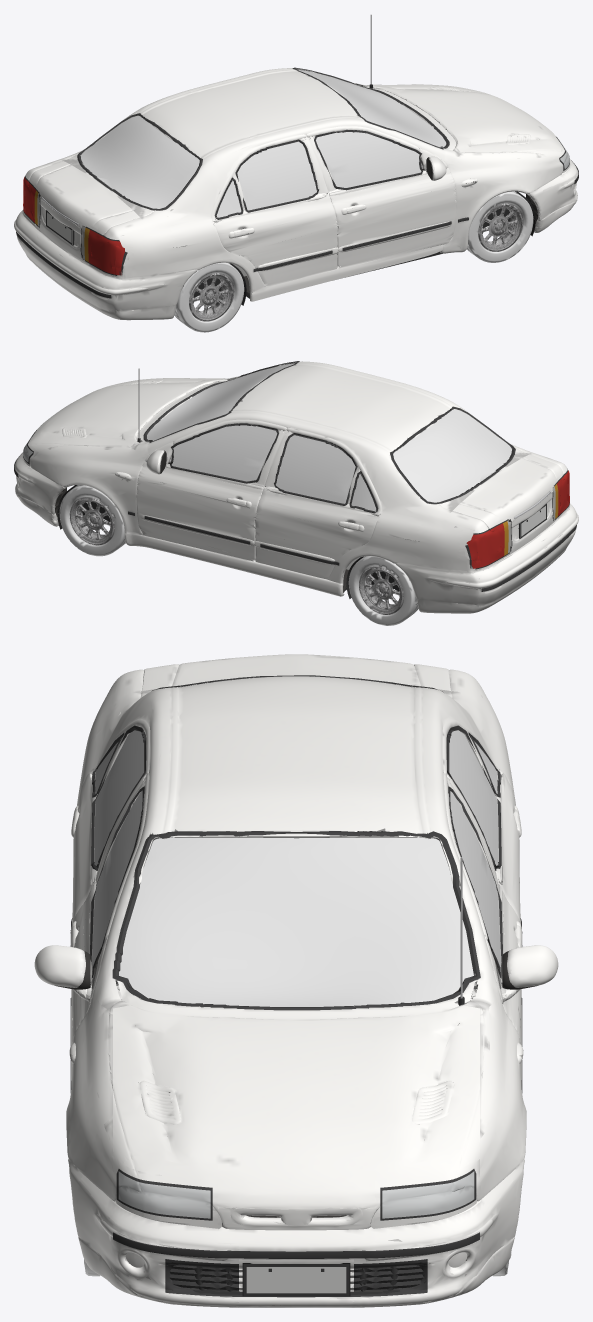
The model's file is barao.glb.
3 renders of one model, top to bottom at view 1: azimuth 30°, elevation 25°; view 2: azimuth 150°, elevation 25°; view 3: azimuth 270°, elevation 25°, orthographic. The views are drawn at different scales.
Parts seen in each view (by area): view 1: body, door_fr, door_rr, hood, glass_rear, bumper_rear, trunk, fender_front_right, glass_door_rr, glass_door_fr, fender_rear_right, glass_windshield (+9 smaller); view 2: body, door_fl, door_rl, hood, glass_rear, bumper_rear, trunk, fender_front_left, glass_door_rl, glass_door_fl, fender_rear_left, glass_windshield (+9 smaller); view 3: body, hood, glass_windshield, bumper_front, trunk, fender_front_left, fender_front_right, grille, headlight_left, headlight_right, plate_front, glass_door_rl (+11 smaller).
Part boxes in pixels (left/top/right/bottom): body: left=23, top=14, right=560, bottom=318; door_fr: left=314, top=129, right=455, bottom=267; door_rr: left=214, top=139, right=337, bottom=288; hood: left=373, top=84, right=561, bottom=164; glass_rear: left=81, top=116, right=199, bottom=208; bumper_rear: left=14, top=210, right=176, bottom=320; trunk: left=27, top=159, right=146, bottom=237; fender_front_right: left=449, top=151, right=543, bottom=239; glass_door_rr: left=216, top=141, right=317, bottom=217; glass_door_fr: left=316, top=132, right=421, bottom=187; fender_rear_right: left=171, top=211, right=249, bottom=292; glass_windshield: left=298, top=70, right=446, bottom=147; body: left=32, top=361, right=569, bottom=611; door_fl: left=137, top=423, right=278, bottom=561; door_rl: left=255, top=433, right=378, bottom=581; hood: left=31, top=378, right=223, bottom=457; glass_rear: left=393, top=409, right=511, bottom=502; bumper_rear: left=416, top=503, right=578, bottom=613; trunk: left=446, top=453, right=565, bottom=530; fender_front_left: left=49, top=445, right=143, bottom=532; glass_door_rl: left=276, top=435, right=376, bottom=510; glass_door_fl: left=171, top=425, right=277, bottom=481; fender_rear_left: left=343, top=505, right=421, bottom=586; glass_windshield: left=147, top=363, right=294, bottom=440; body: left=54, top=665, right=538, bottom=1292; hood: left=113, top=1003, right=479, bottom=1209; glass_windshield: left=119, top=837, right=473, bottom=1006; bumper_front: left=76, top=1173, right=516, bottom=1307; trunk: left=115, top=654, right=477, bottom=699; fender_front_left: left=480, top=995, right=526, bottom=1261; fender_front_right: left=66, top=995, right=112, bottom=1253; grille: left=165, top=1259, right=427, bottom=1297; headlight_left: left=375, top=1164, right=481, bottom=1225; headlight_right: left=111, top=1164, right=217, bottom=1225; plate_front: left=239, top=1259, right=353, bottom=1296; glass_door_rl: left=446, top=730, right=498, bottom=865.
Size of the model in its own units: 4.39 by 1.58 by 2.
Materials: 12 (7 with a texture image).
